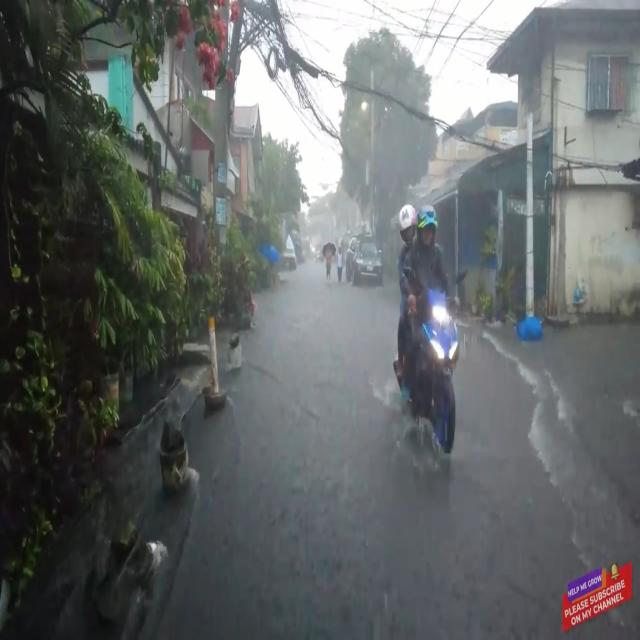full: (398, 204, 418, 250)
half: (417, 205, 437, 245)
